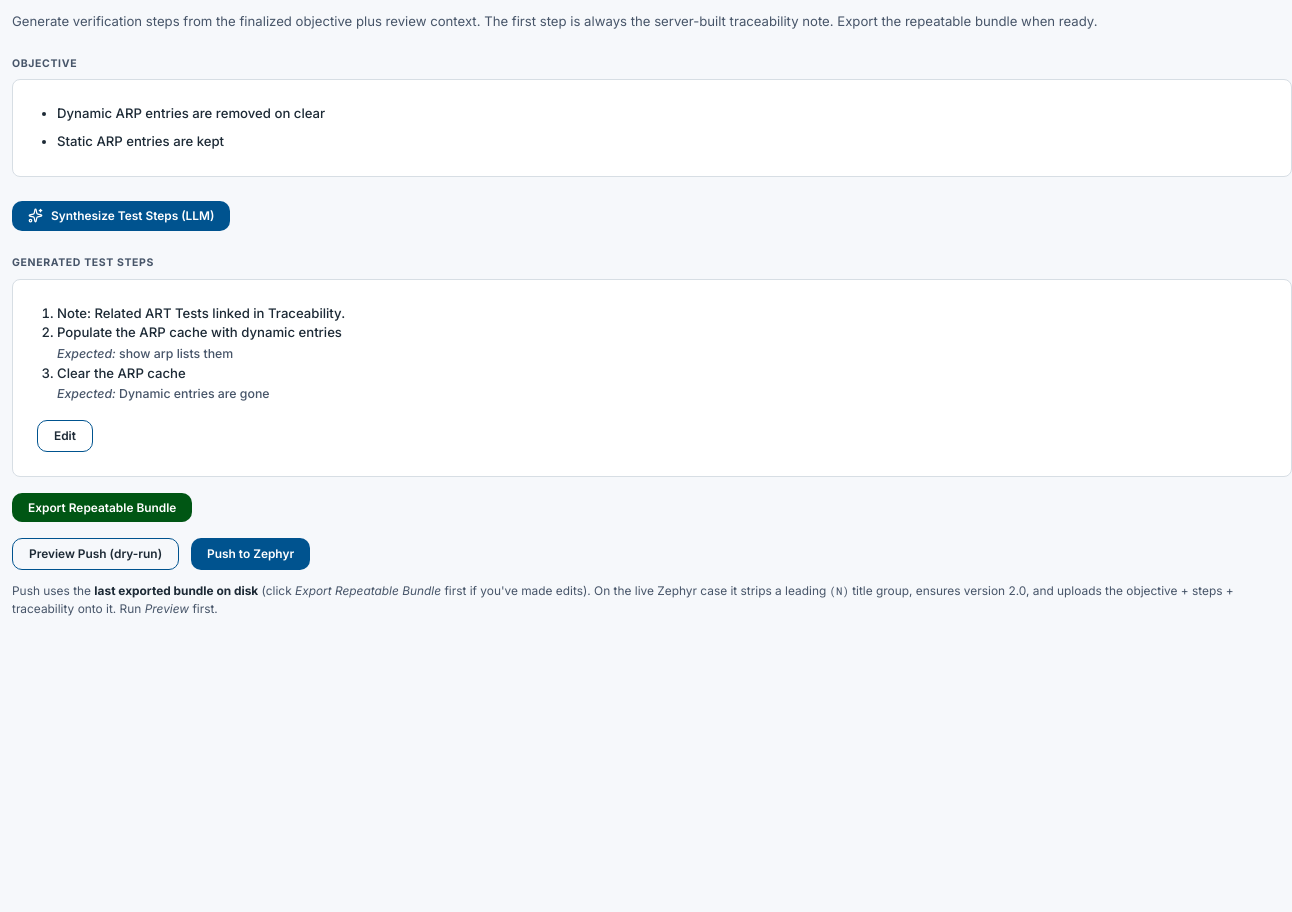
Test: OgTestSteps › editing › the trash button removes that step only
Click the button "Edit": (65, 436) [37,420,93,452]
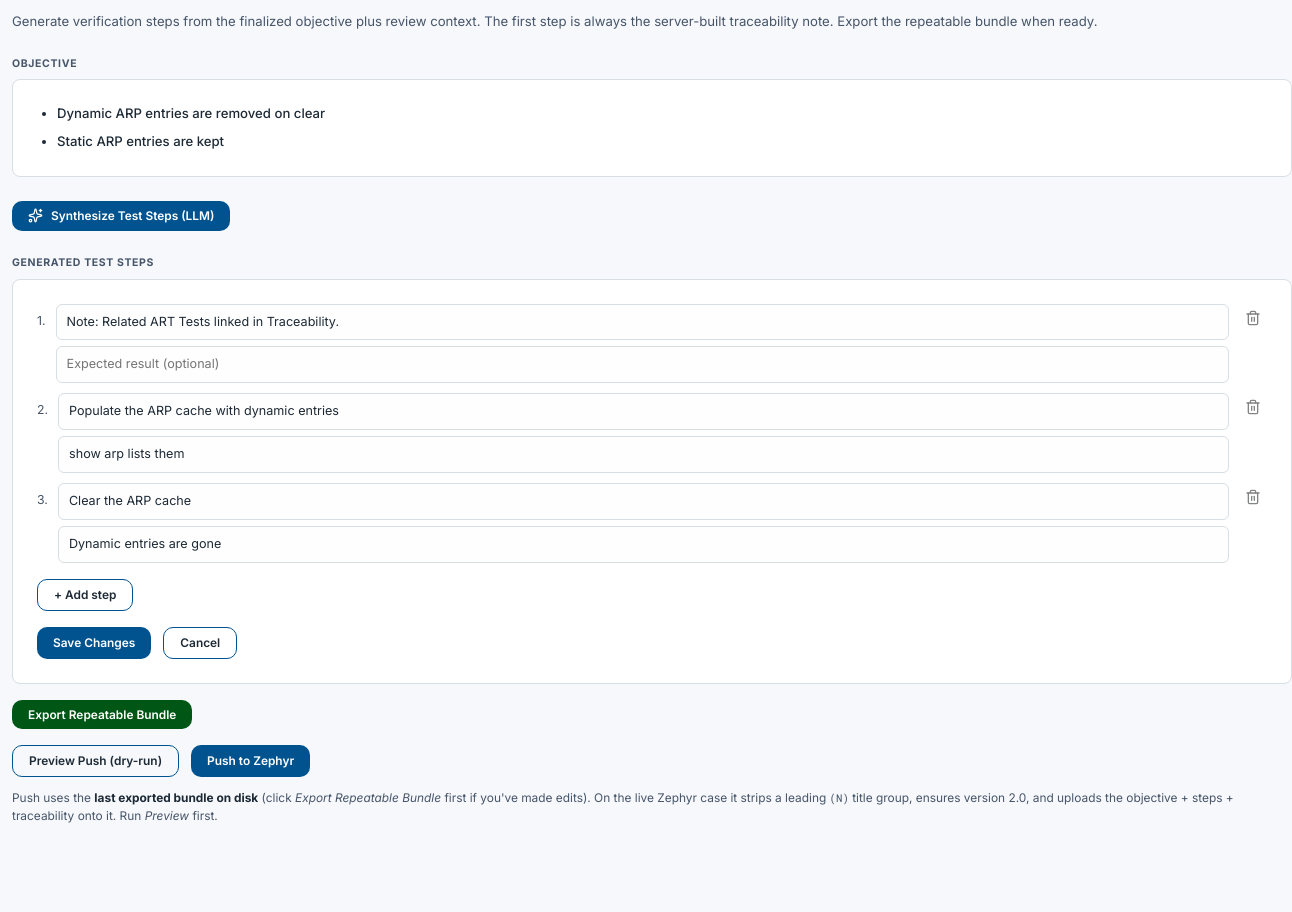
Click the 2nd button named "Remove step": (1253, 407) [1239,393,1267,421]
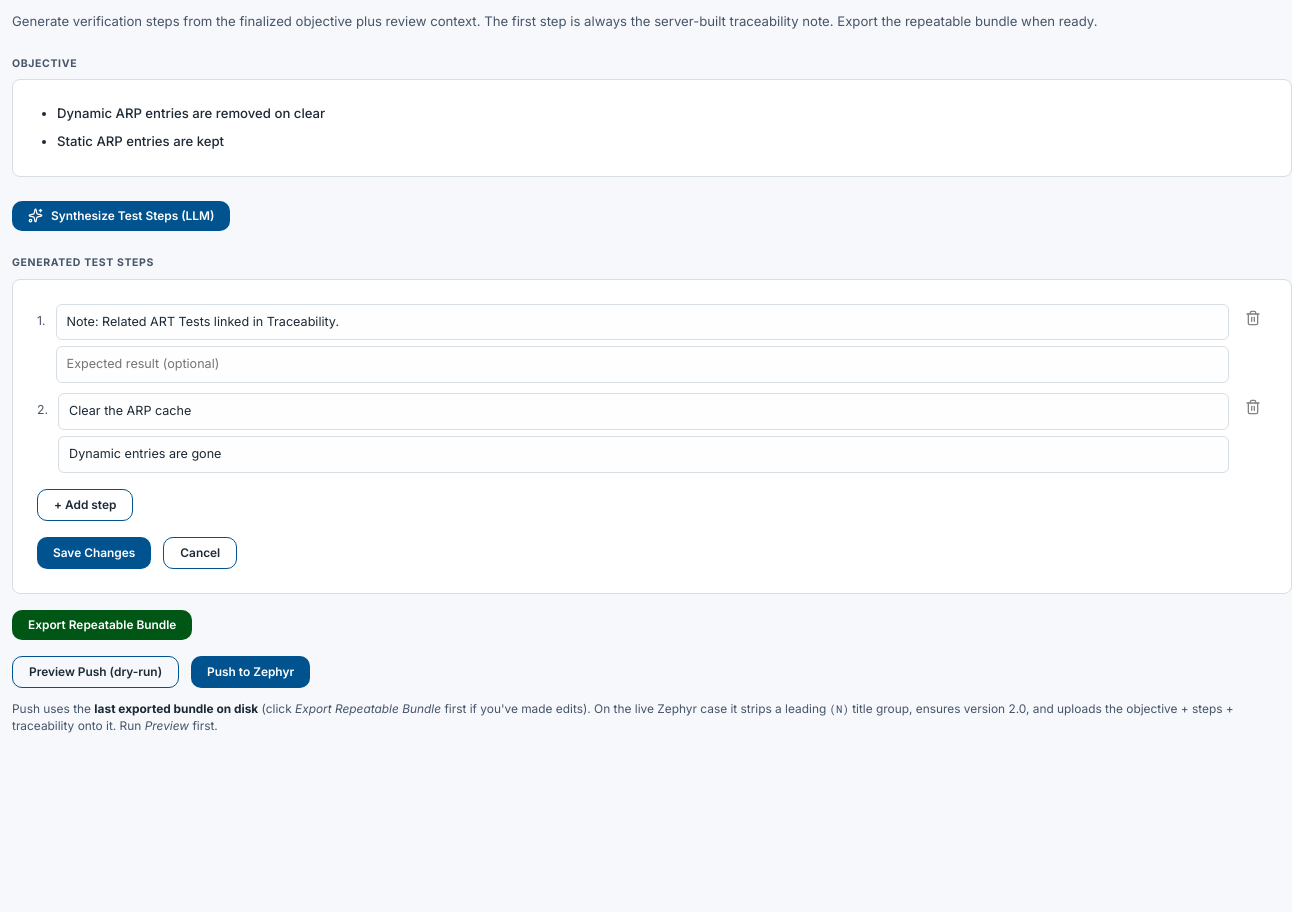
Result: the number of fields with placeholder "Step description" is 2 at [56,304,1229,340]; [58,393,1229,430]
